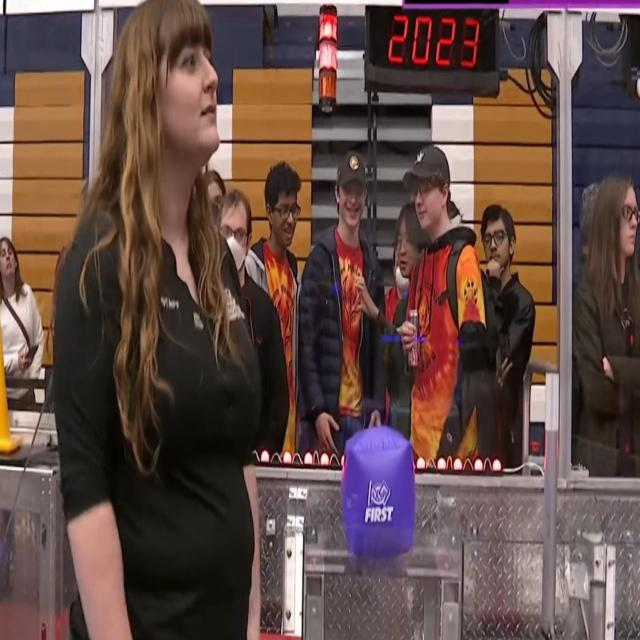frc_cone: (0, 305, 22, 457)
frc_cube: (342, 431, 417, 565)
